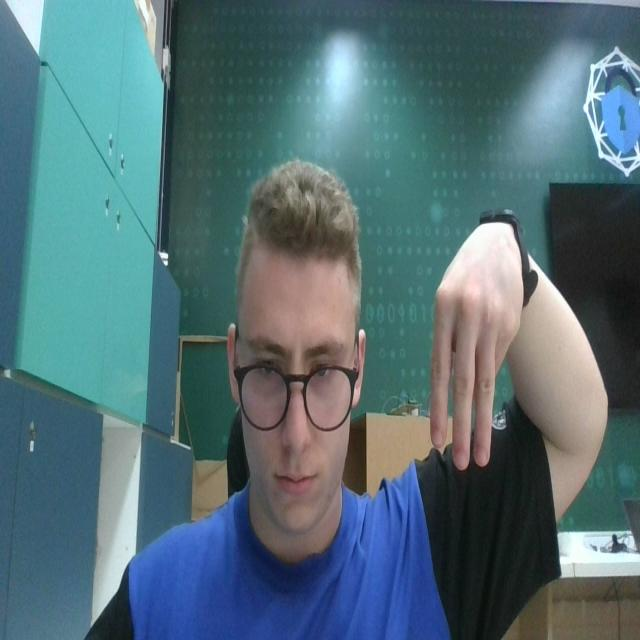M: (426, 217, 521, 475)
